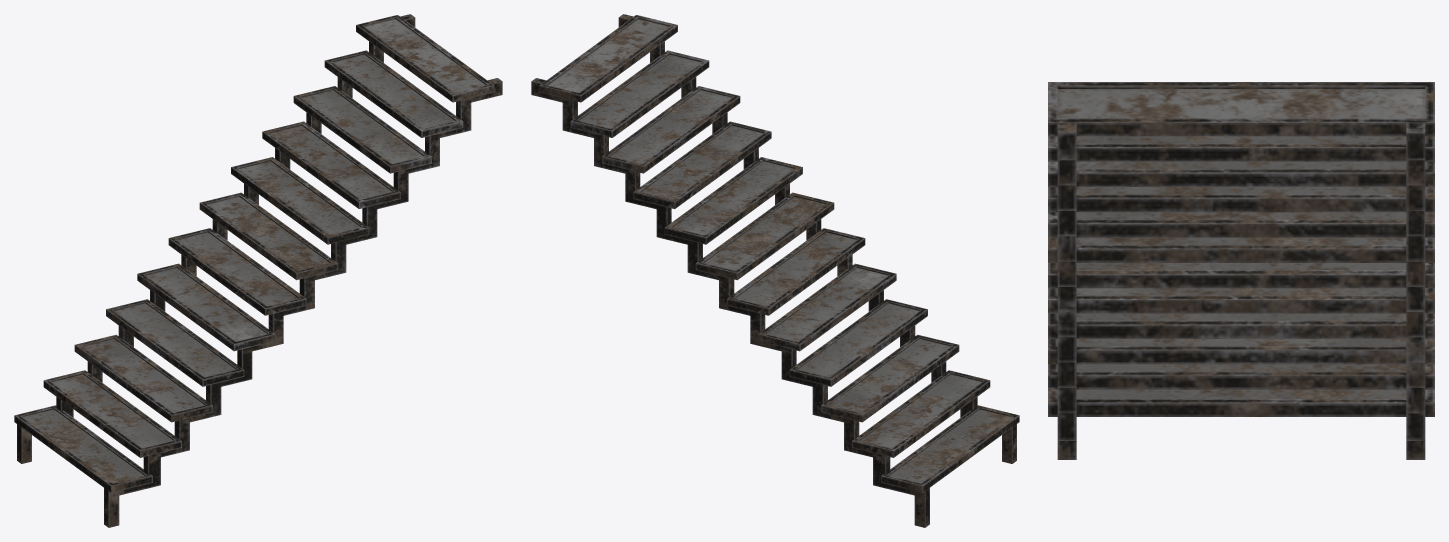
3 renders of one model, left to right at view 1: azimuth 30°, elevation 25°; view 2: azimuth 150°, elevation 25°; view 3: azimuth 270°, elevation 25°, orthographic. The views are drawn at different scales.
Parts seen in each view (by area): view 1: Staircase; view 2: Staircase; view 3: Staircase.
Boxes of the visible parts, left/top/right/bottom form: Staircase: left=14, top=14, right=502, bottom=527; Staircase: left=531, top=14, right=1019, bottom=527; Staircase: left=1048, top=82, right=1434, bottom=459.
Size of the model in its own units: 2.35 by 2 by 1.
1 material, 1 textured.
